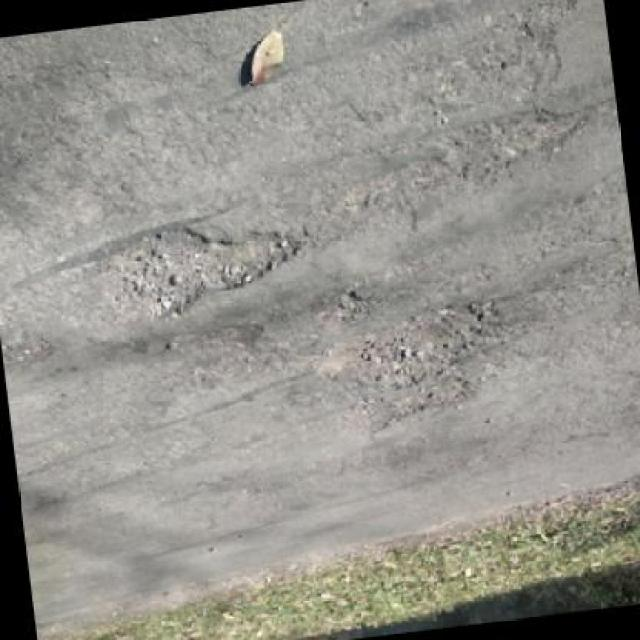pothole1: (95, 213, 310, 332), (316, 300, 526, 398), (341, 376, 482, 439), (326, 283, 374, 323)
